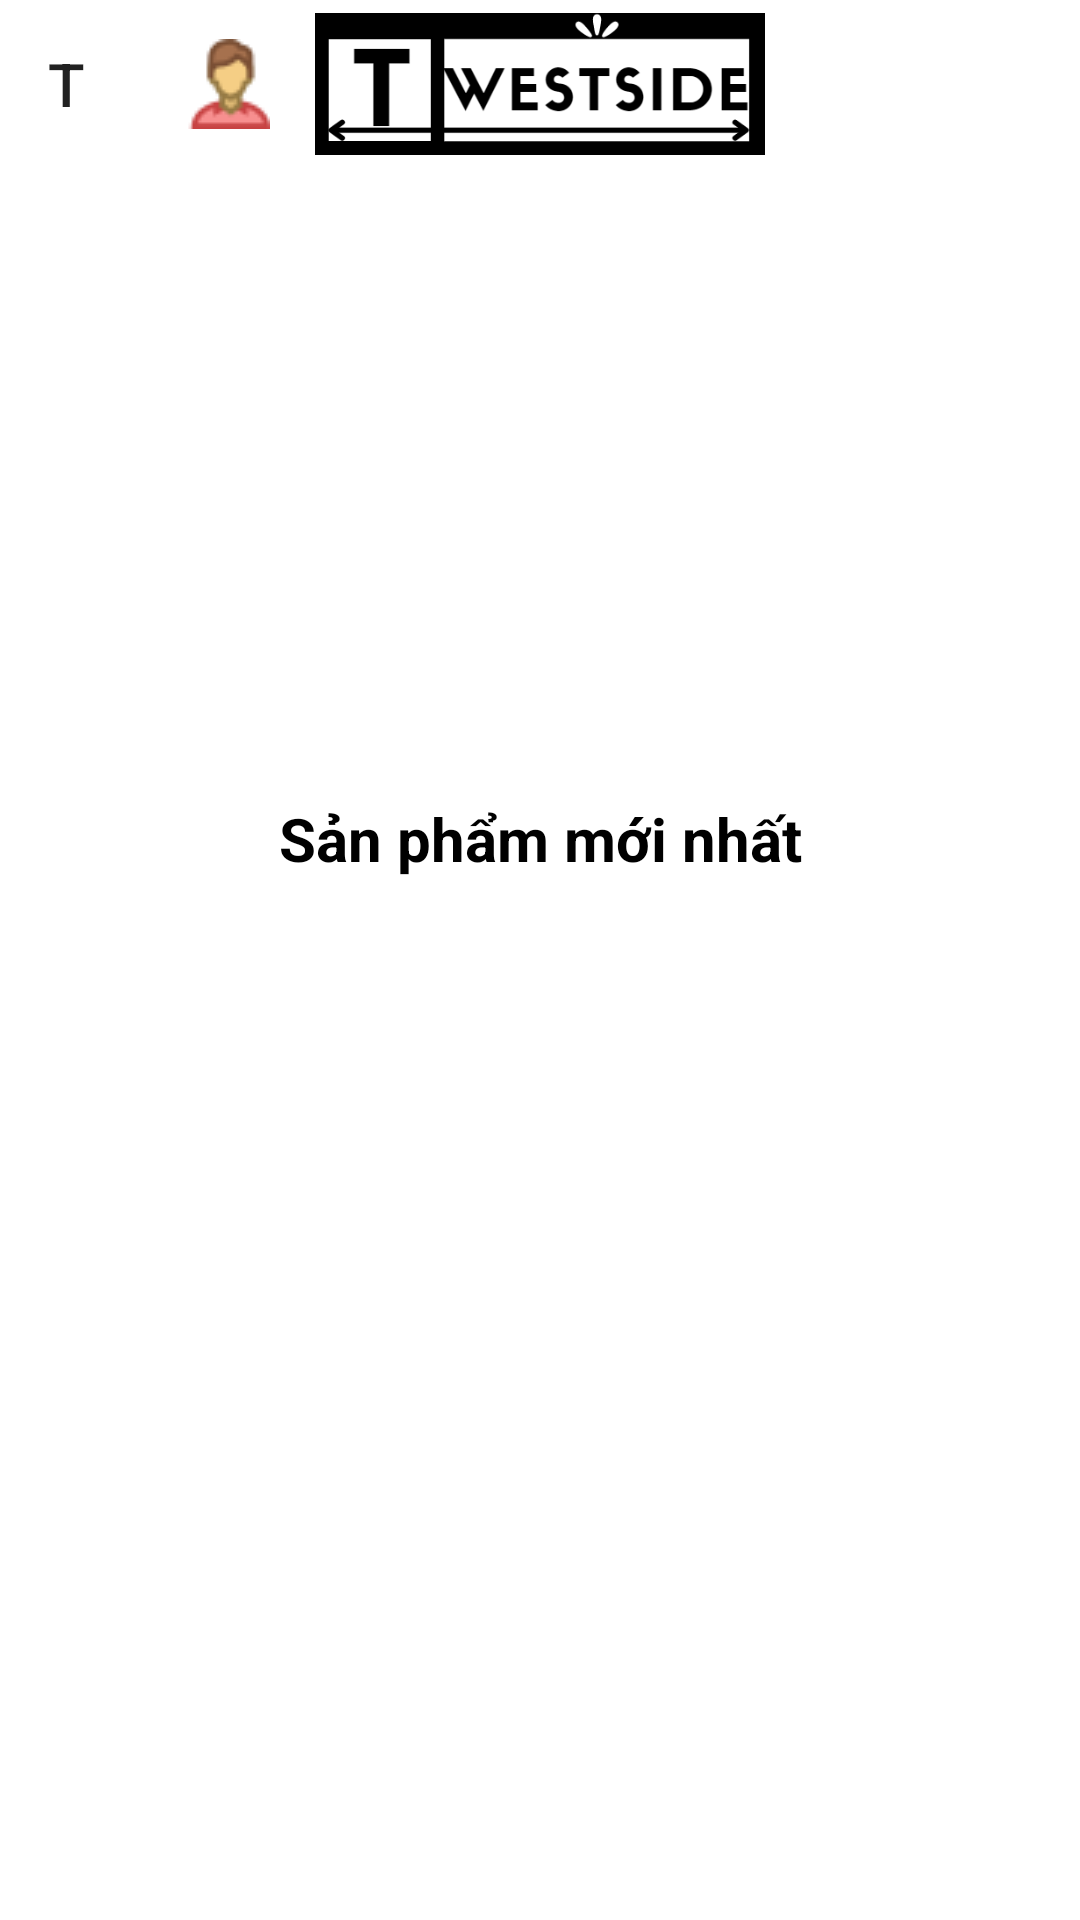

Screen size 1080 × 1920. Icon name, then its box in pixels as (x1, y1, x2, y2):
iconsaccount: (189, 39, 270, 129)
